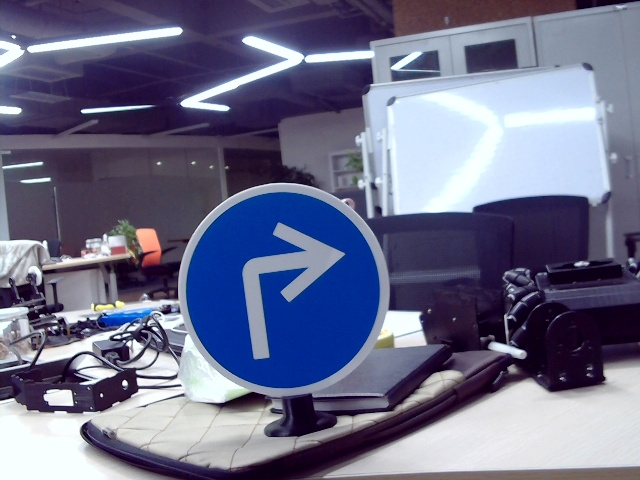turn_right: (232, 214, 346, 365)
